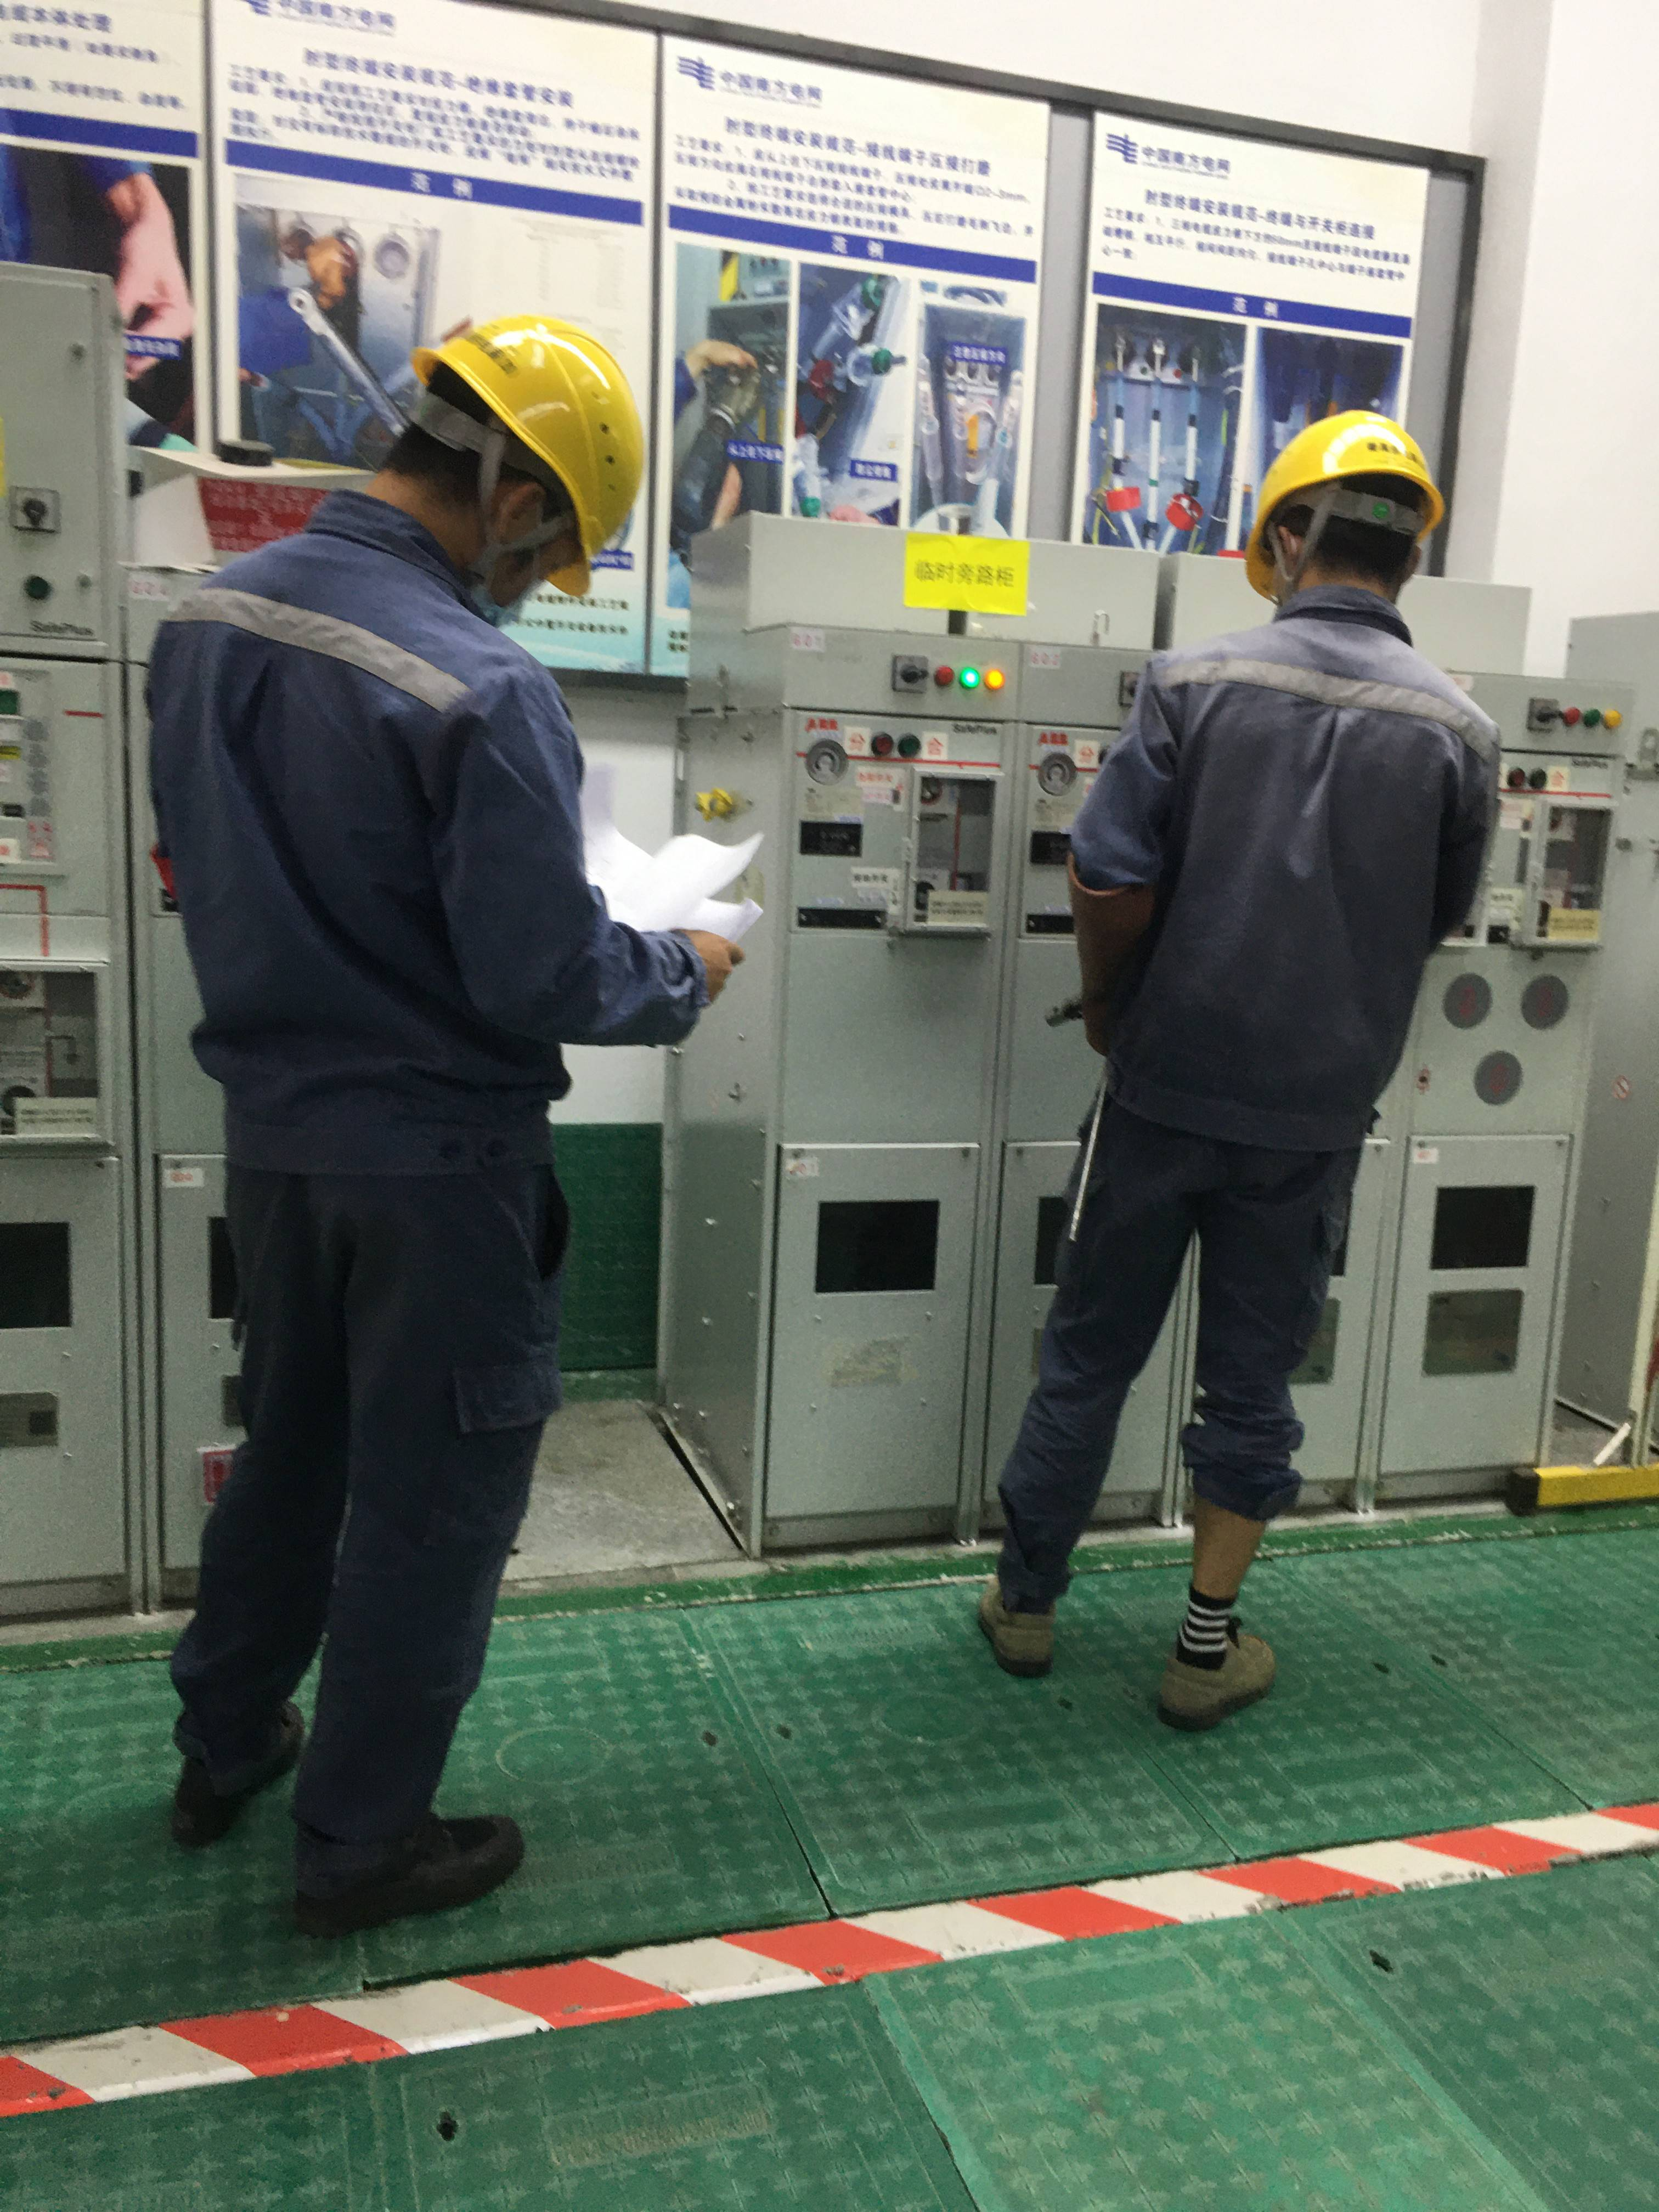downsuit: (176, 1122, 580, 1822), (1000, 1151, 1340, 1616)
upsuit: (120, 493, 708, 1115), (1060, 601, 1509, 1123)
wrongbottom: (1176, 1430, 1293, 1616)
